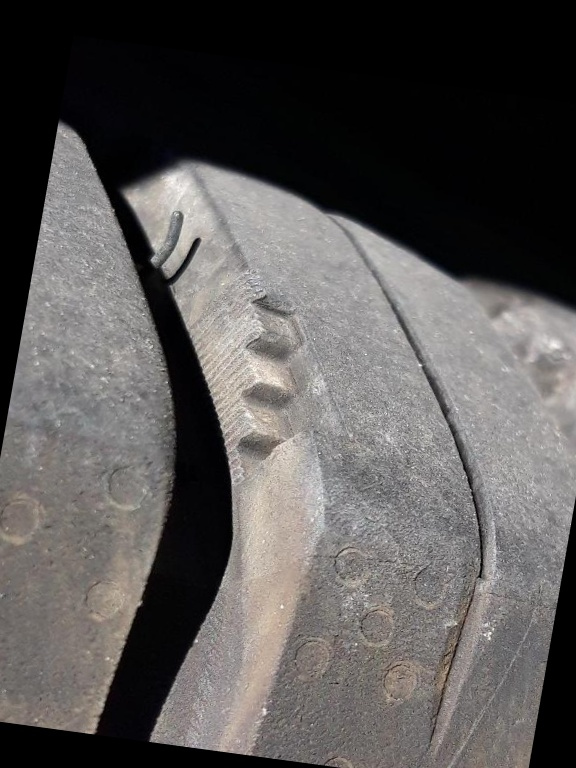temoin:80: (153, 257, 383, 514)
